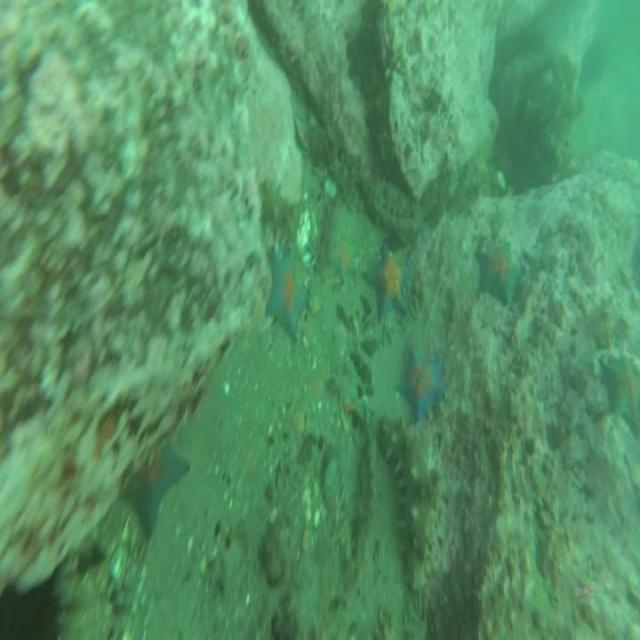holothurian: (384, 428, 436, 561)
starfish: (122, 434, 191, 536), (265, 246, 307, 336), (396, 348, 446, 420), (600, 352, 640, 428), (364, 245, 406, 316), (474, 243, 522, 302), (327, 237, 355, 277)
